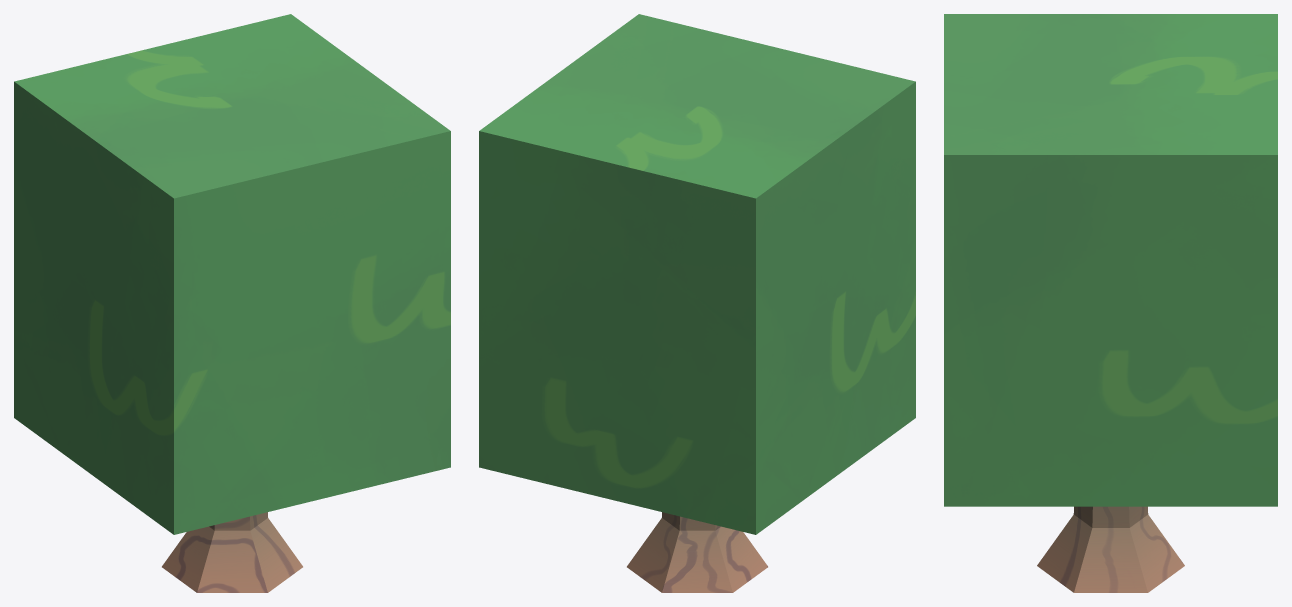
The model's file is Tree2.fbx.
3 renders of one model, left to right at view 1: azimuth 30°, elevation 25°; view 2: azimuth 150°, elevation 25°; view 3: azimuth 270°, elevation 25°, orthographic. The views are drawn at different scales.
Parts seen in each view (by area): view 1: Cylinder.002; view 2: Cylinder.002; view 3: Cylinder.002.
Boxes of the visible parts, x1=… form: Cylinder.002: x1=14, y1=14, x2=450, y2=592; Cylinder.002: x1=479, y1=14, x2=915, y2=592; Cylinder.002: x1=944, y1=14, x2=1277, y2=592.
Bounding box in the file's own units: 520 × 826 × 520.
2 materials, 2 textured.
